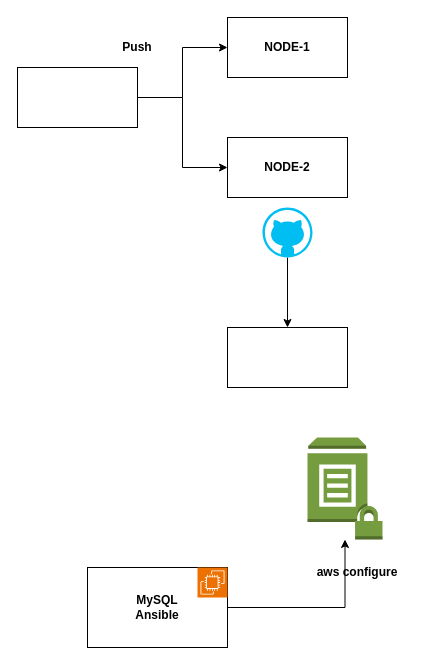
Image size: 435x665. Some labels were removed from this diagram. The shapes that lost their labels are listed below. From the top down, each one's centre as x and y in pixels, then its label:
At point (77, 97): "Ansible".
At point (287, 357): "NODE-1 Ansible".
